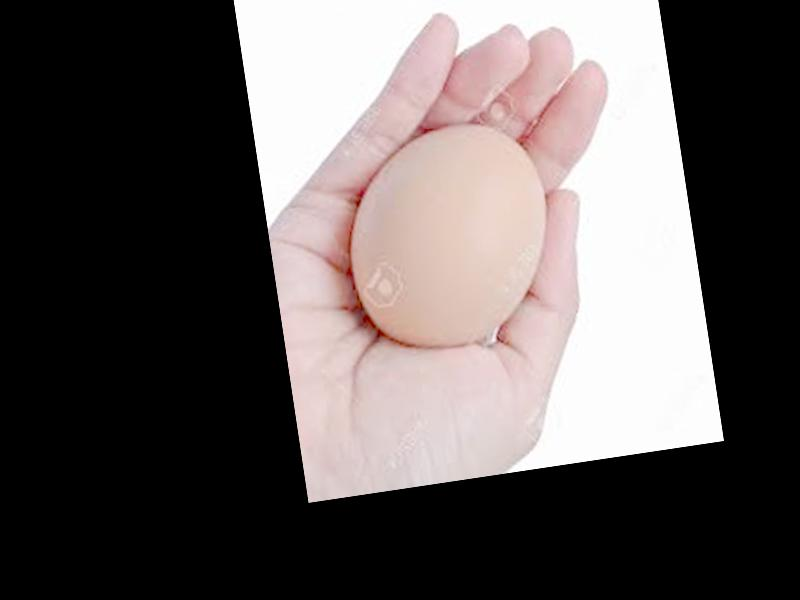Eggs: (336, 113, 564, 360)
